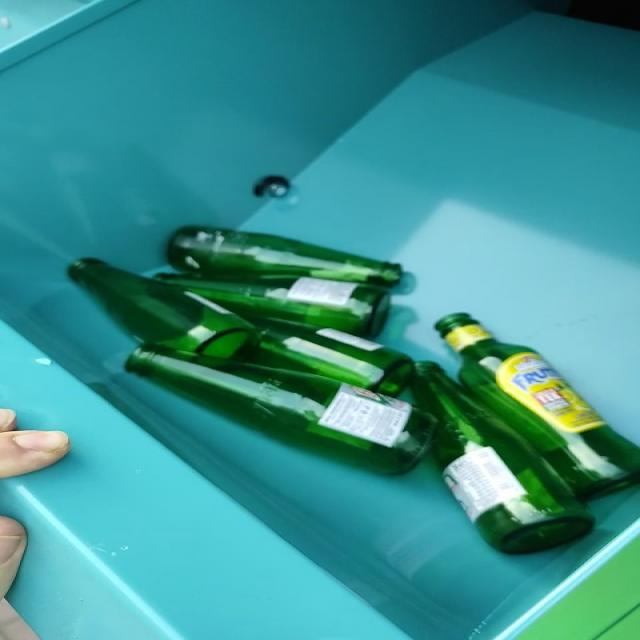glass: (68, 226, 640, 554)
